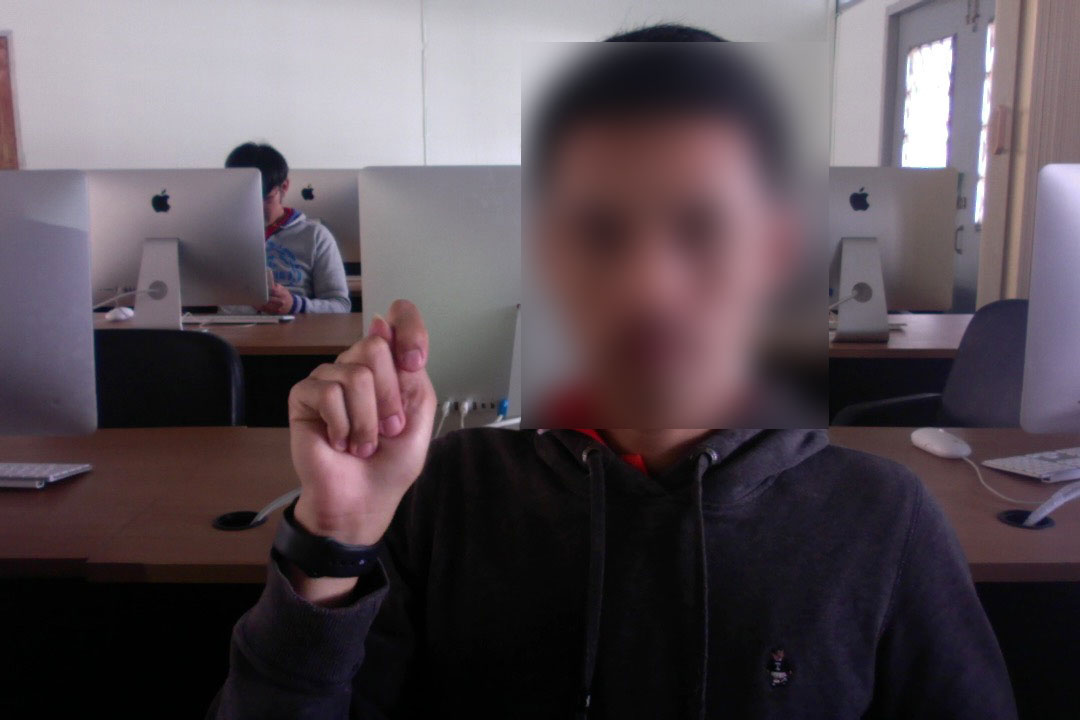tor: (283, 297, 438, 538)
